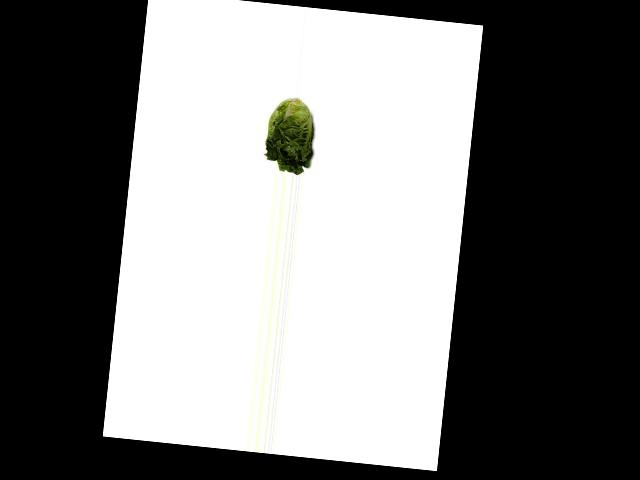lettuce: (258, 94, 321, 174)
